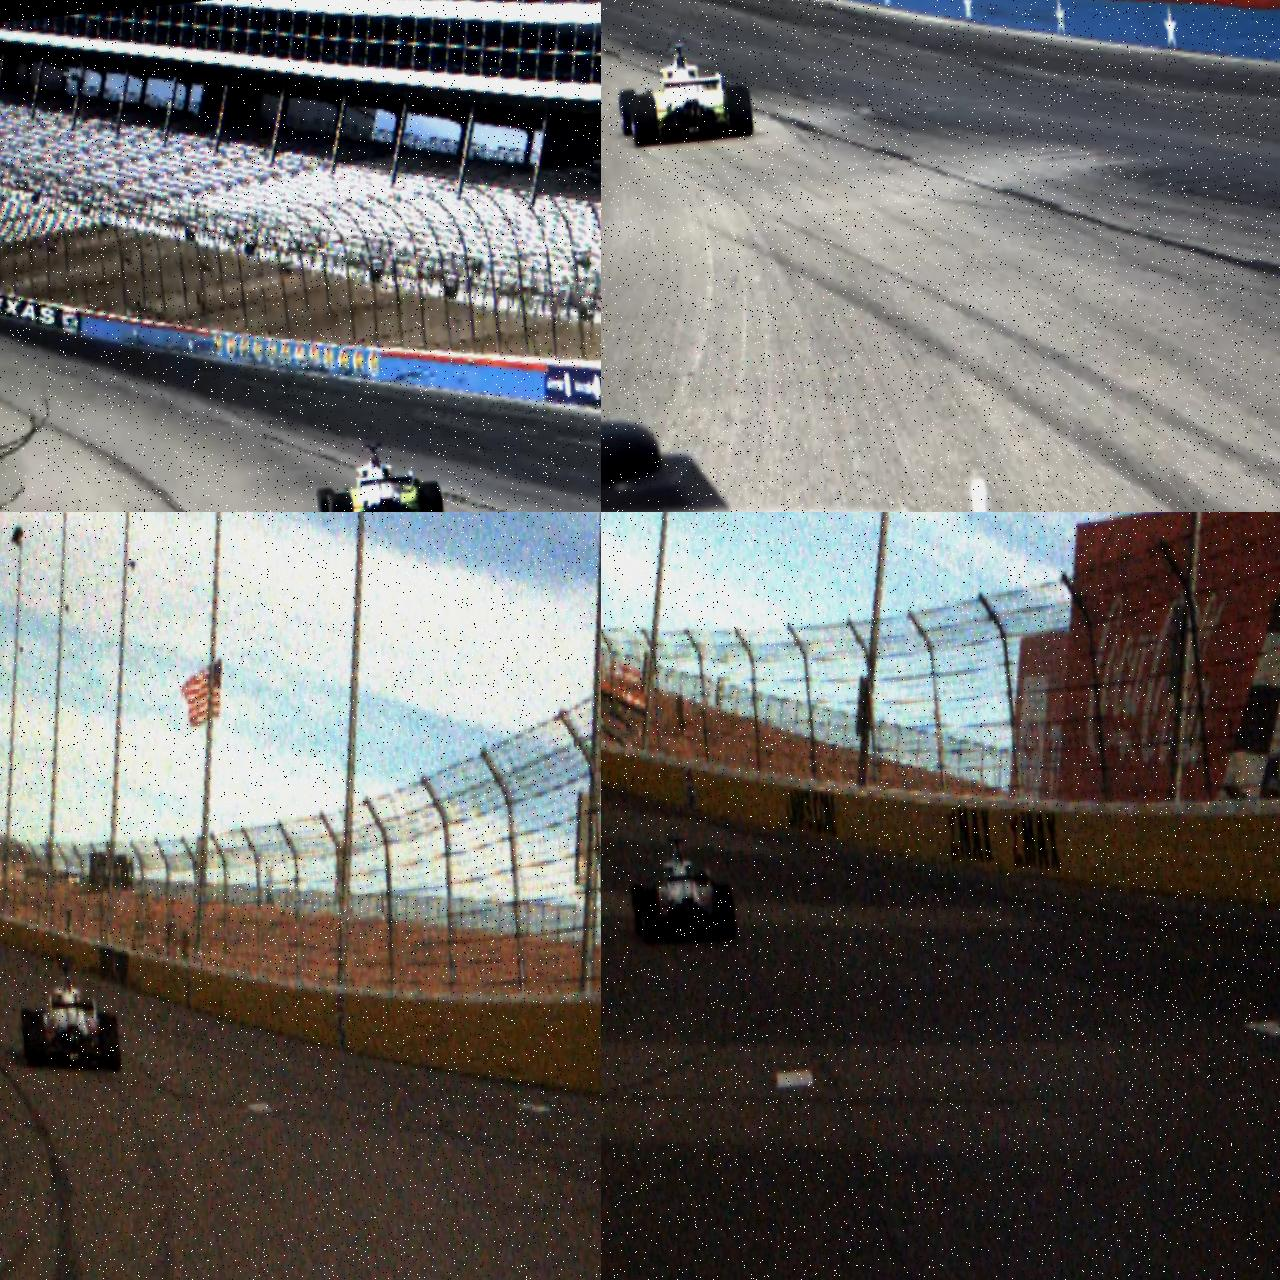AV: (613, 34, 756, 150), (15, 951, 123, 1080), (625, 831, 738, 950), (309, 436, 446, 512)
Wheel: (630, 93, 661, 148), (724, 84, 754, 138), (21, 1010, 48, 1068), (638, 887, 664, 943), (714, 883, 738, 941), (99, 1012, 122, 1072), (630, 883, 650, 938), (618, 88, 640, 137), (420, 480, 446, 512), (327, 492, 356, 512), (316, 486, 338, 512)
